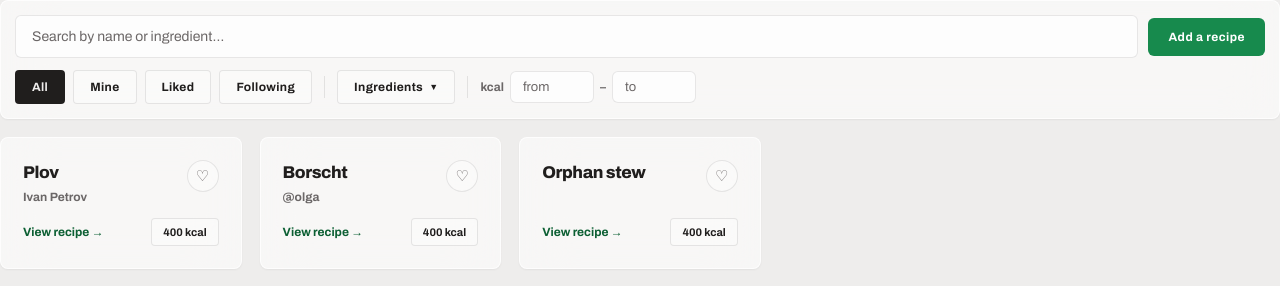
Scenario: recipes list › filters to the authors I follow
Expected: the heading "Plov" is shown, [23, 163, 59, 182]
Click the button "Following".
click(266, 87)  # box [219, 70, 312, 104]
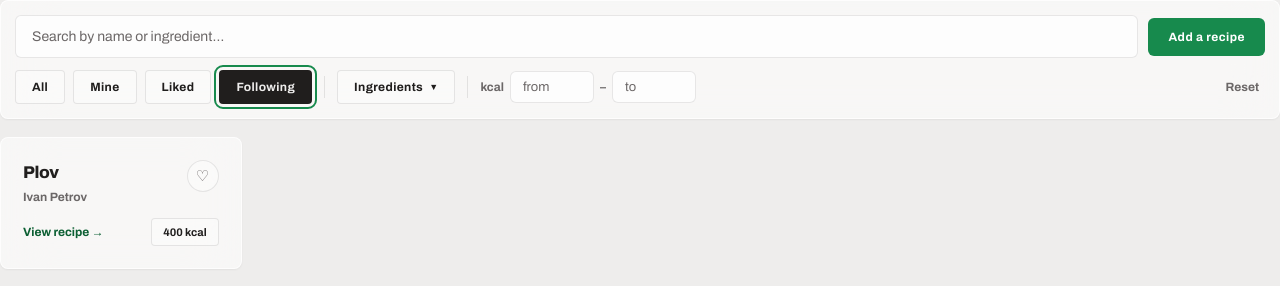
Expected: the heading "Plov" is shown, [23, 163, 59, 182]
Expected: the link "Borscht" is gone
Expected: the link "Orphan stew" is gone
